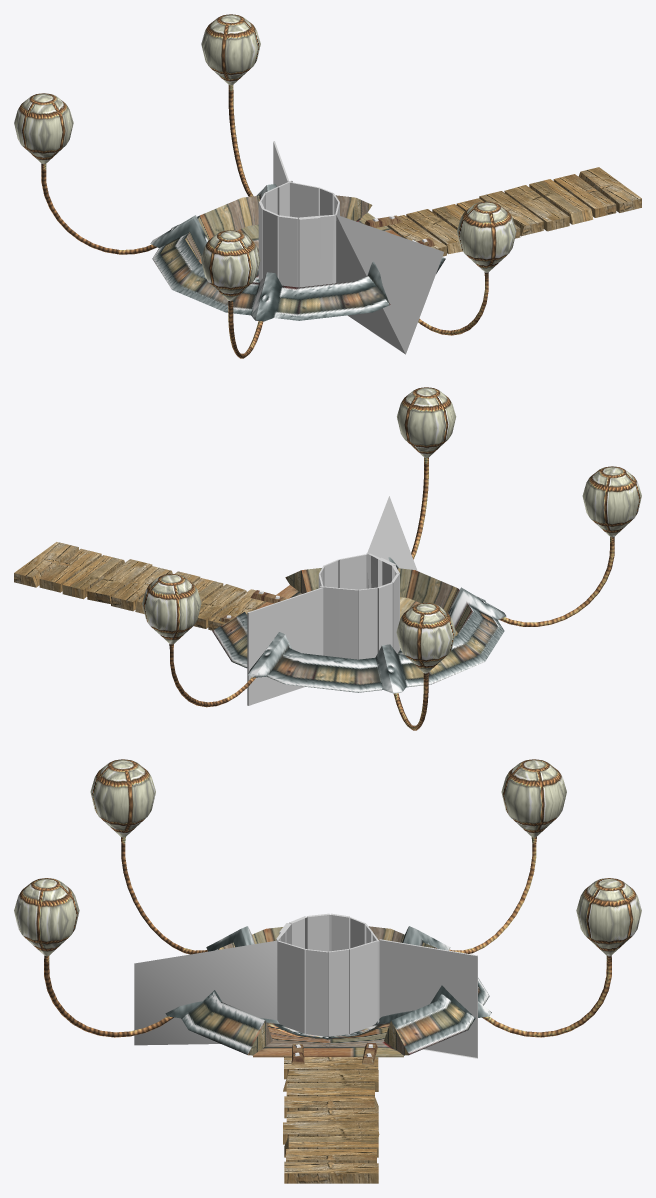
File: PE_Balloon.FBX
3 renders of one model, top to bottom at view 1: azimuth 30°, elevation 25°; view 2: azimuth 150°, elevation 25°; view 3: azimuth 270°, elevation 25°, orthographic. The views are drawn at different scales.
Visible parts, largest first — view 1: PE_Balloon_P10, PE_Balloon_Platform_L2, PE_Balloon_Platform_R2, PE_Balloon_Ballon02, PE_Balloon_Ballon04, PE_Balloon_Ballon03, PE_Balloon_Ballon01, PE_Balloon_Ballon_Seil01, PE_Balloon_P8, PE_Balloon_P7, PE_Balloon_Platte08, PE_Balloon_Platte05 (+9 smaller); view 2: PE_Balloon_Platform_R2, PE_Balloon_P1, PE_Balloon_Platform_L2, PE_Balloon_Ballon02, PE_Balloon_Ballon01, PE_Balloon_Ballon03, PE_Balloon_Ballon04, PE_Balloon_Ballon_Seil01, PE_Balloon_P10, PE_Balloon_P4, PE_Balloon_P3, PE_Balloon_Platte08 (+13 smaller); view 3: PE_Balloon_P10, PE_Balloon_P1, PE_Balloon_Ballon03, PE_Balloon_Ballon02, PE_Balloon_Ballon01, PE_Balloon_Ballon04, PE_Balloon_Ballon_Seil01, PE_Balloon_Platform_R1, PE_Balloon_Platform_L1, PE_Balloon_PD1, PE_Balloon_PD4, PE_Balloon_Platte08 (+16 smaller).
Part boxes in pixels (x1,y1,x2,y2): PE_Balloon_P10: (336, 214, 443, 354); PE_Balloon_Platform_L2: (172, 261, 390, 321); PE_Balloon_Platform_R2: (150, 184, 276, 289); PE_Balloon_Ballon02: (201, 230, 260, 301); PE_Balloon_Ballon04: (201, 14, 260, 85); PE_Balloon_Ballon03: (14, 93, 73, 164); PE_Balloon_Ballon01: (457, 201, 516, 272); PE_Balloon_Ballon_Seil01: (41, 85, 488, 358); PE_Balloon_P8: (298, 216, 320, 287); PE_Balloon_P7: (278, 215, 298, 287); PE_Balloon_Platte08: (578, 167, 641, 212); PE_Balloon_Platte05: (504, 185, 569, 231); PE_Balloon_Platform_R2: (248, 632, 484, 693); PE_Balloon_P1: (247, 587, 323, 705); PE_Balloon_Platform_L2: (388, 557, 506, 661); PE_Balloon_Ballon02: (582, 466, 641, 537); PE_Balloon_Ballon01: (397, 387, 456, 457); PE_Balloon_Ballon03: (396, 602, 455, 673); PE_Balloon_Ballon04: (142, 573, 201, 644); PE_Balloon_Ballon_Seil01: (169, 457, 614, 730); PE_Balloon_P10: (367, 496, 417, 588); PE_Balloon_P4: (358, 587, 377, 659); PE_Balloon_P3: (339, 588, 358, 659); PE_Balloon_Platte08: (14, 542, 78, 587); PE_Balloon_P10: (134, 940, 278, 1045); PE_Balloon_P1: (379, 939, 477, 1058); PE_Balloon_Ballon03: (501, 759, 566, 837); PE_Balloon_Ballon02: (90, 759, 155, 837); PE_Balloon_Ballon01: (14, 878, 79, 956); PE_Balloon_Ballon04: (576, 878, 641, 956); PE_Balloon_Ballon_Seil01: (44, 837, 611, 1037); PE_Balloon_Platform_R1: (384, 993, 475, 1055); PE_Balloon_Platform_L1: (181, 993, 272, 1055); PE_Balloon_PD1: (349, 940, 377, 1033); PE_Balloon_PD4: (277, 940, 305, 1033); PE_Balloon_Platte08: (284, 1161, 378, 1183).
Bounding box in the file's own units: 34.35 × 11.08 × 33.29.
Materials: 5 (4 with a texture image).
